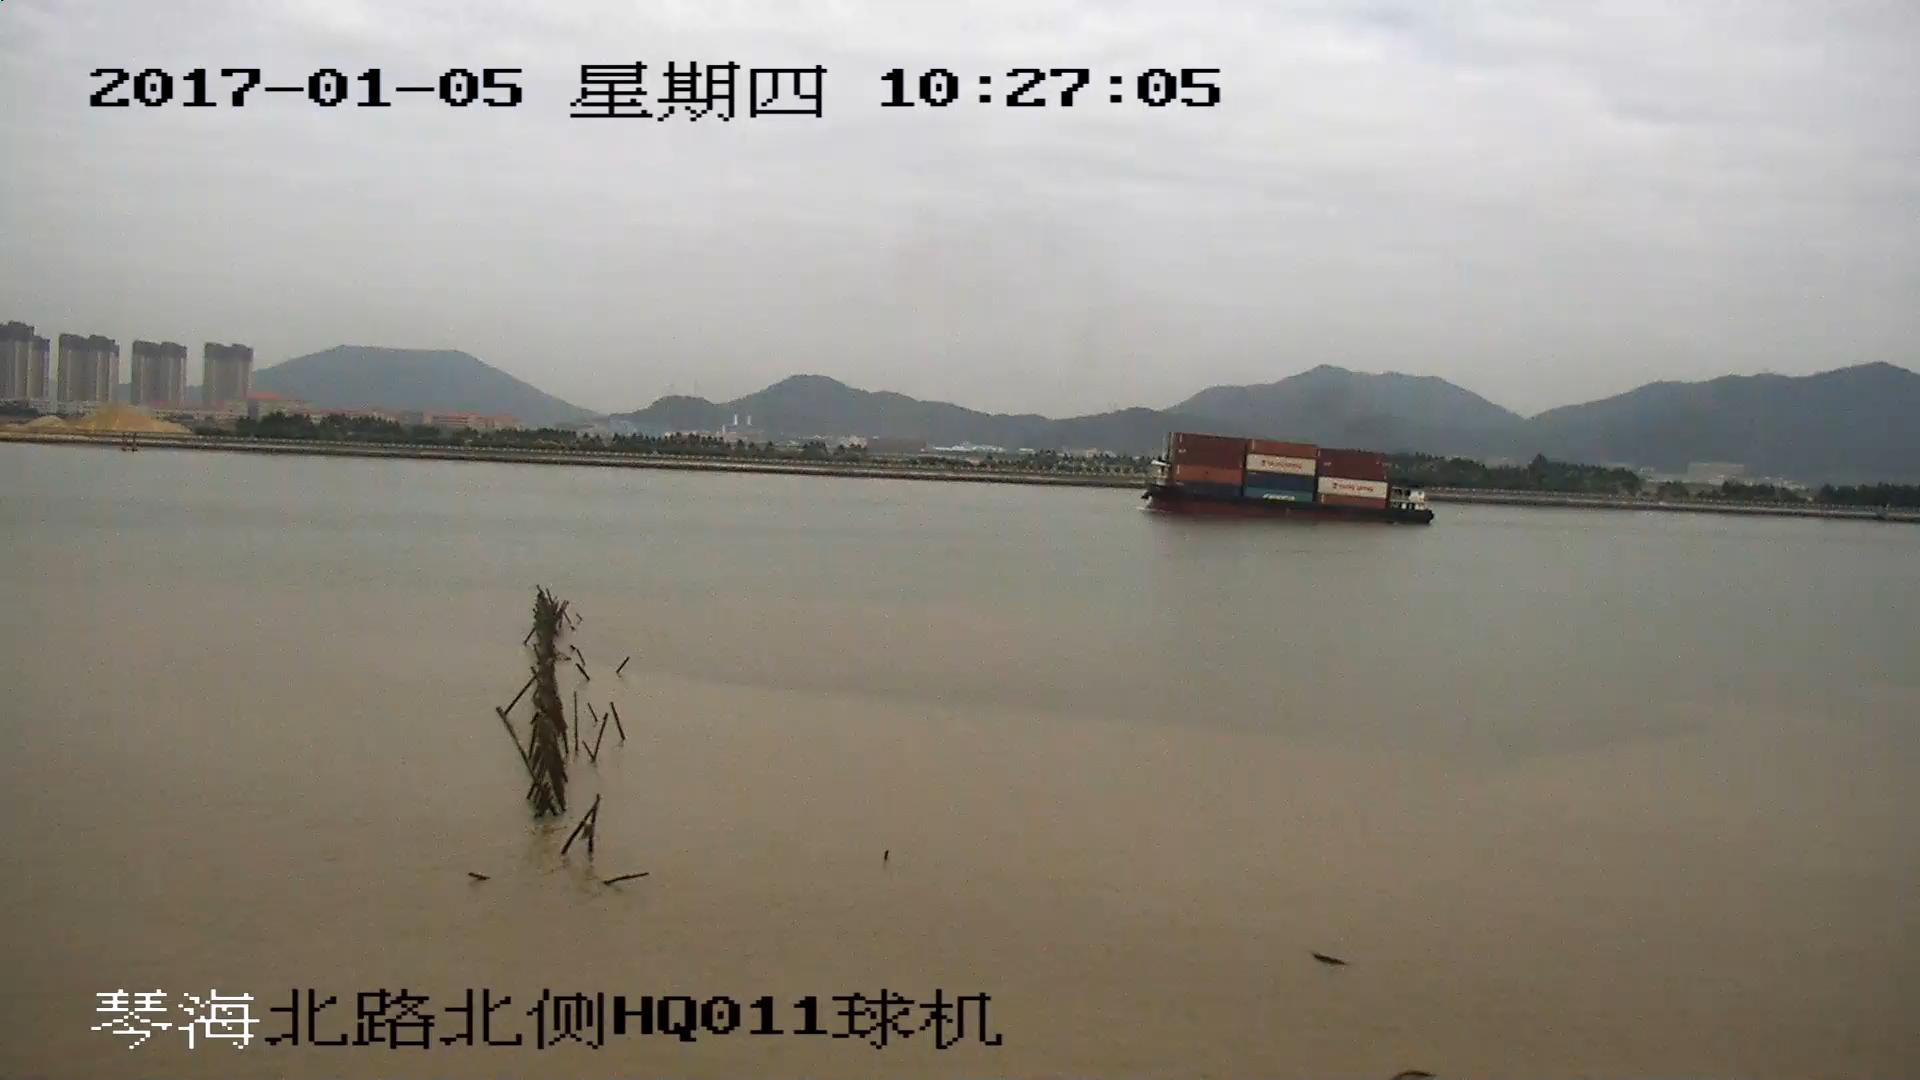container ship: (1145, 436, 1435, 527)
